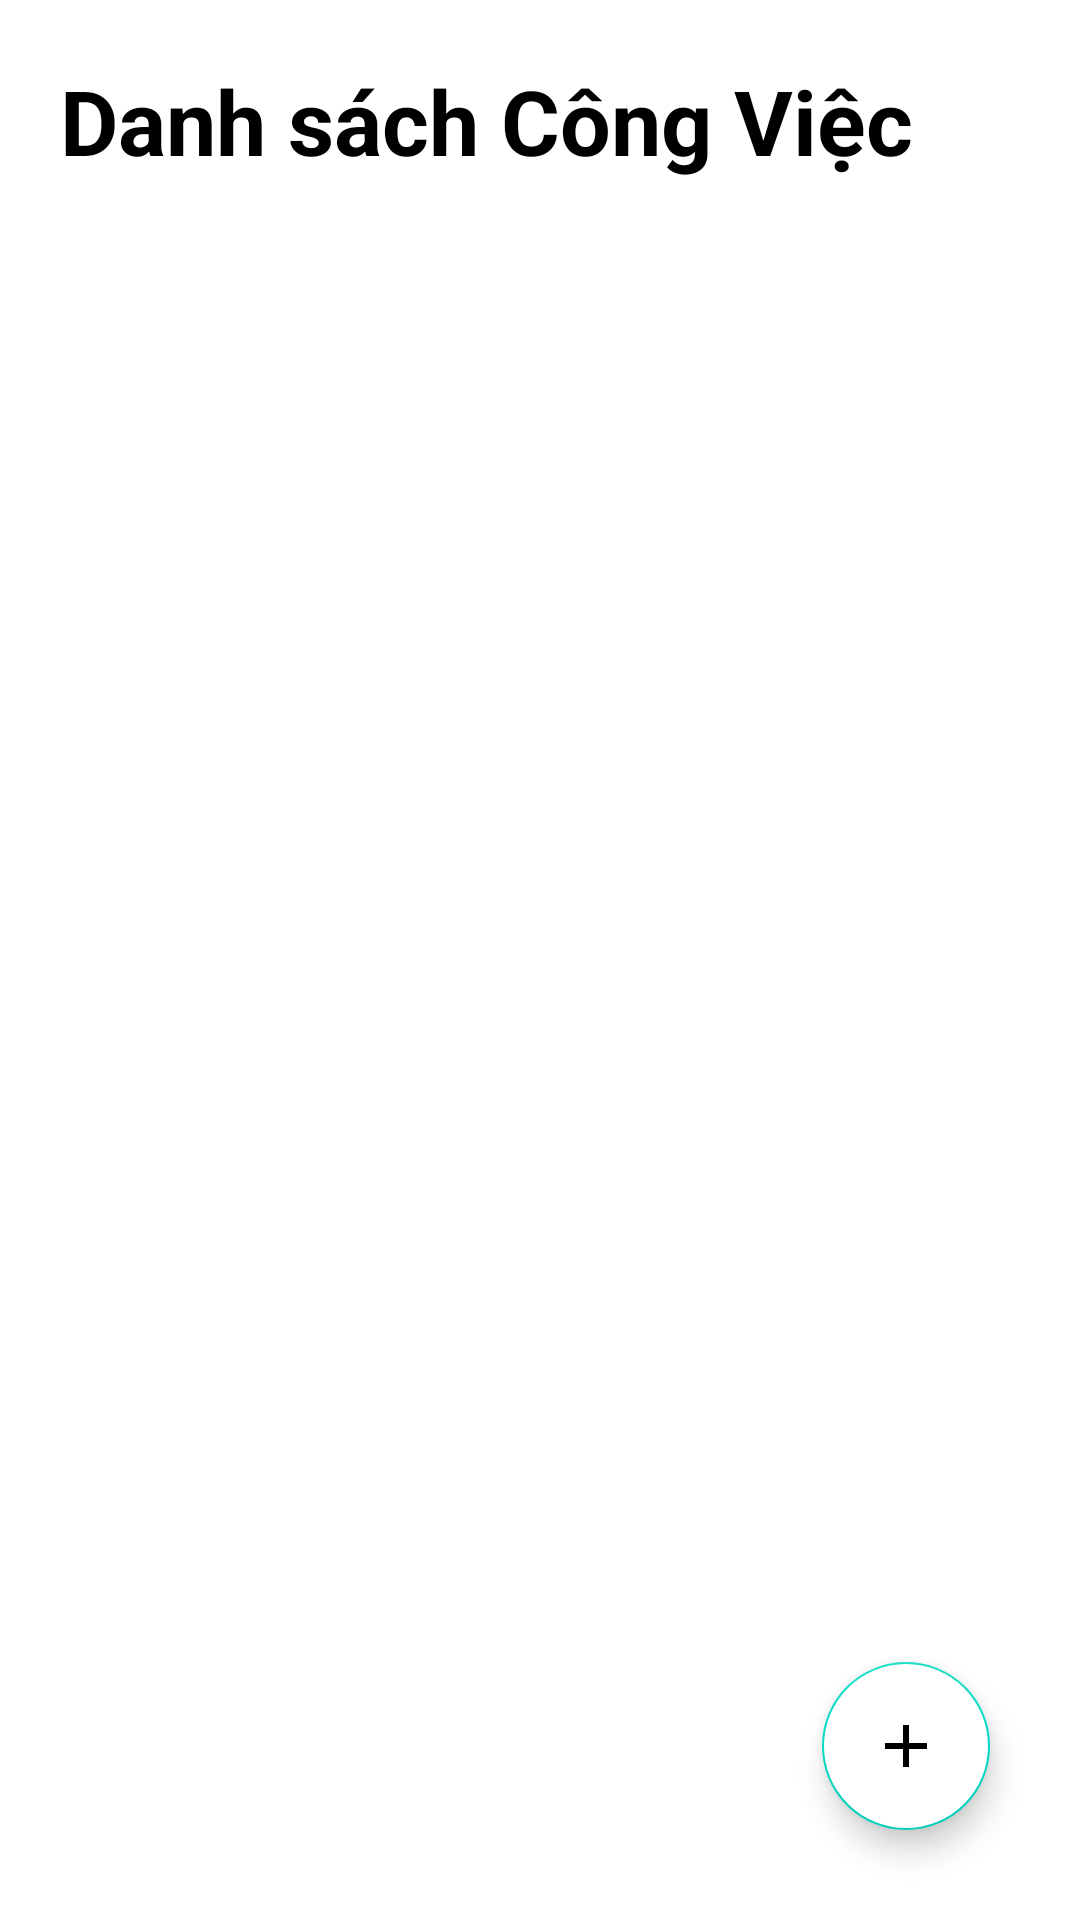

Screen size 1080 x 1920. Icon name, then its box in pixels as [left=x1, top=y1, right=x2, bottom=y2]:
add: [left=822, top=1662, right=990, bottom=1830]
